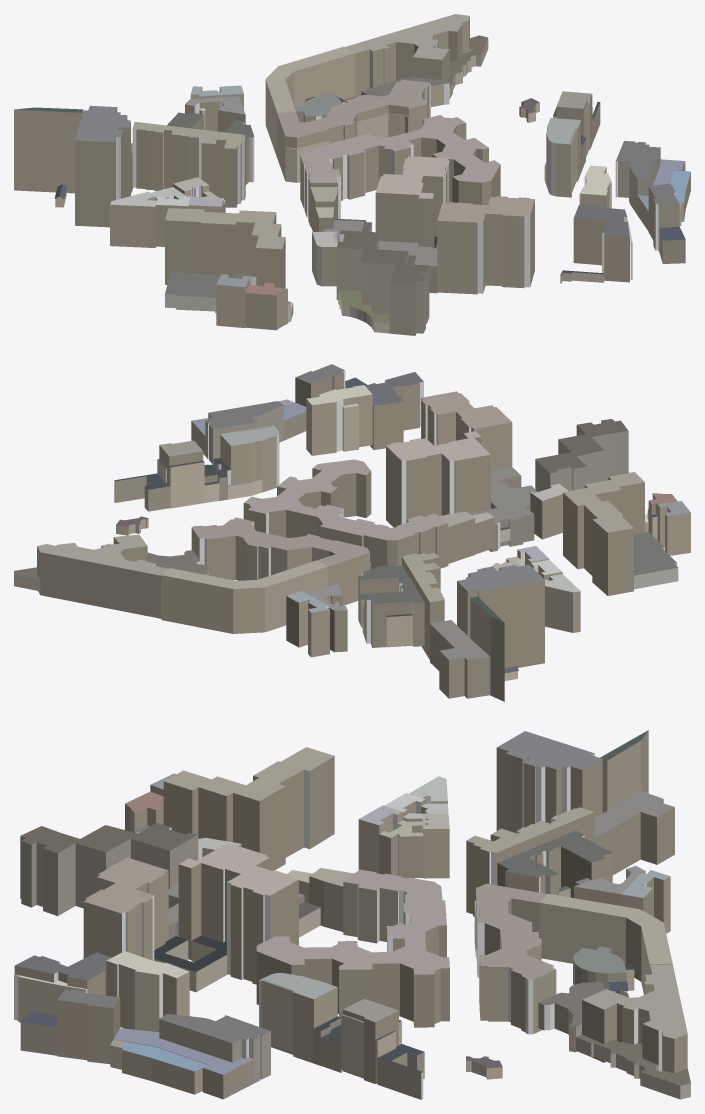
3 views of the same model, one above another, from view 1: azimuth 30°, elevation 25°; view 2: azimuth 150°, elevation 25°; view 3: azimuth 270°, elevation 25° (orthographic). The views are drawn at different scales.
Parts seen in each view (by area): view 1: tuile; view 2: tuile; view 3: tuile.
Part boxes in pixels (box(x1,y1,x2,y2)): tuile: box(14, 14, 690, 335); tuile: box(14, 364, 690, 701); tuile: box(14, 730, 690, 1099).
Bounding box in the file's own units: 285 × 45.58 × 272.
